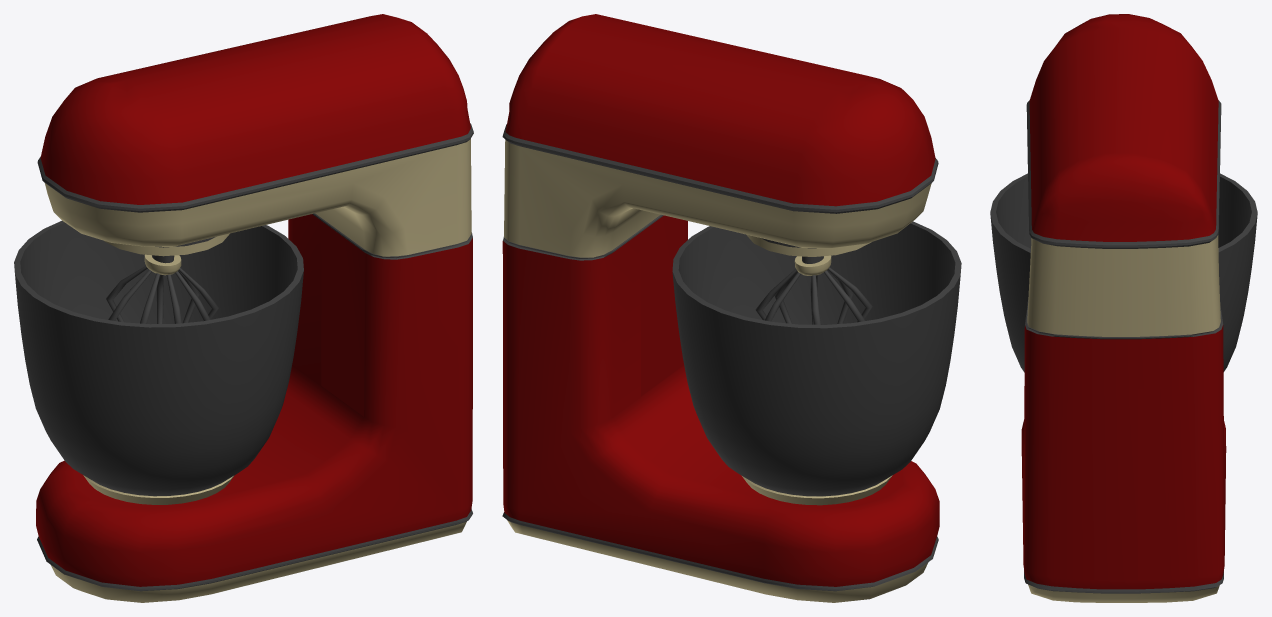
The model's file is Mixer.fbx.
The picture shows the model from 3 angles, left to right: view 1: azimuth 30°, elevation 25°; view 2: azimuth 150°, elevation 25°; view 3: azimuth 270°, elevation 25°; orthographic projection. The views are drawn at different scales.
Parts seen in each view (by area): view 1: Mixer_BottomHalf, Mixer_TopHalf, Mixer_Bowl, Mixer_Wires; view 2: Mixer_BottomHalf, Mixer_TopHalf, Mixer_Bowl, Mixer_Wires; view 3: Mixer_TopHalf, Mixer_BottomHalf, Mixer_Bowl.
Part boxes in pixels (<box>): Mixer_BottomHalf: <box>36,213,472,602</box>; Mixer_TopHalf: <box>37,14,473,275</box>; Mixer_Bowl: <box>14,221,303,496</box>; Mixer_Wires: <box>106,266,218,323</box>; Mixer_BottomHalf: <box>502,214,939,602</box>; Mixer_TopHalf: <box>502,14,938,275</box>; Mixer_Bowl: <box>672,221,961,496</box>; Mixer_Wires: <box>755,267,872,324</box>; Mixer_TopHalf: <box>1026,14,1221,336</box>; Mixer_BottomHalf: <box>1021,300,1226,602</box>; Mixer_Bowl: <box>990,173,1257,372</box>.
Bounding box in the file's own units: 0.8967 × 1.03 × 0.5535.
